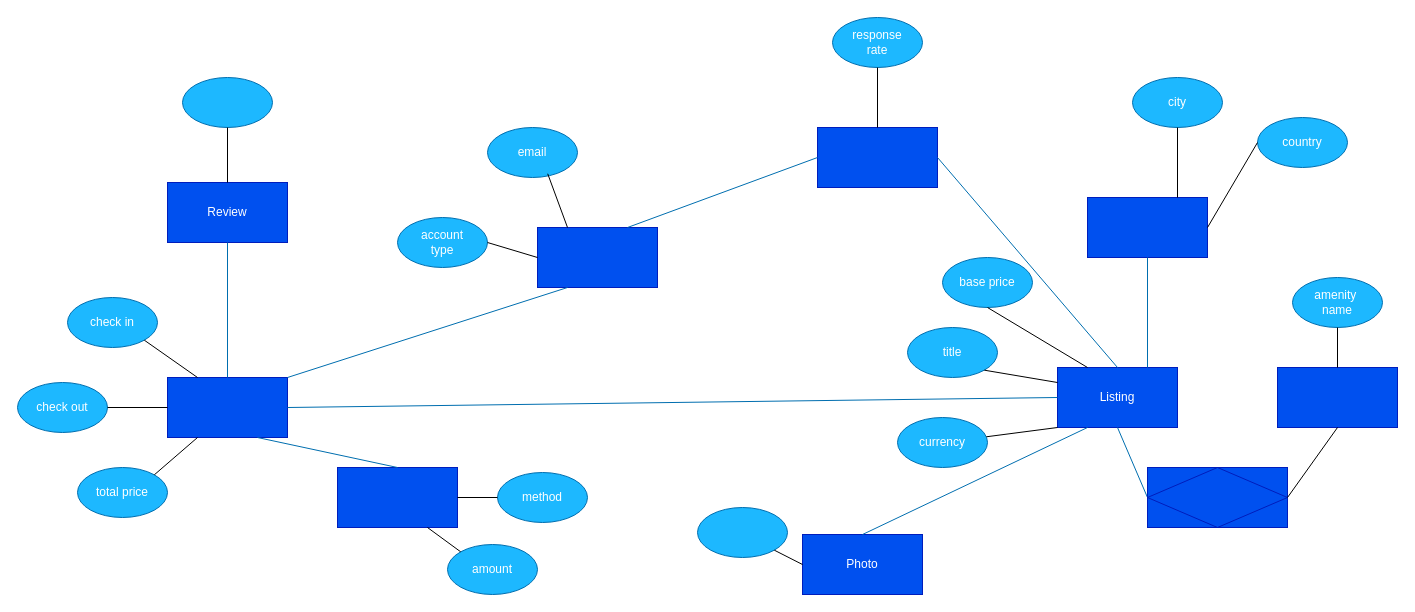
Image size: 1415x612. Some labels were removed from this diagram. Each missing label, with the centre of its shape:
"Amenity" goes at pixel 1337 397.
"Booking" goes at pixel 227 407.
"HostProfile" goes at pixel 877 157.
"ListingAmenity" goes at pixel 1217 497.
"Location" goes at pixel 1147 227.
"Payment" goes at pixel 397 497.
"photo url" goes at pixel 742 532.
"rating overall" goes at pixel 227 102.
"UserAccount" goes at pixel 597 257.
